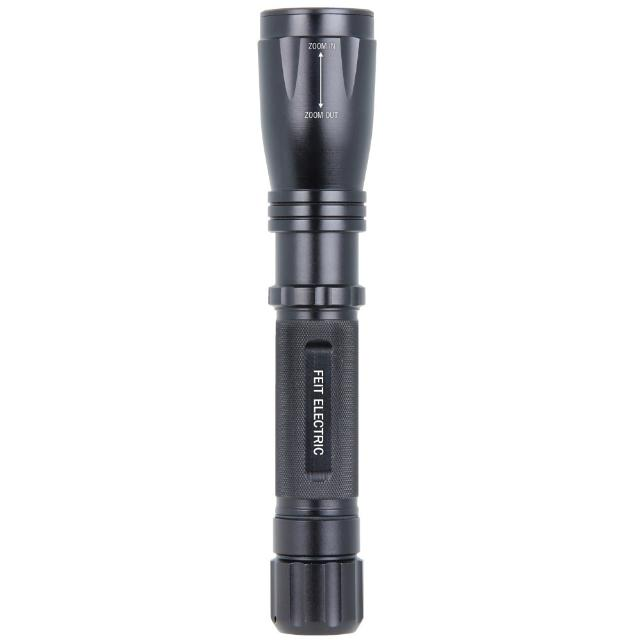Flashlight: (247, 0, 386, 640)
